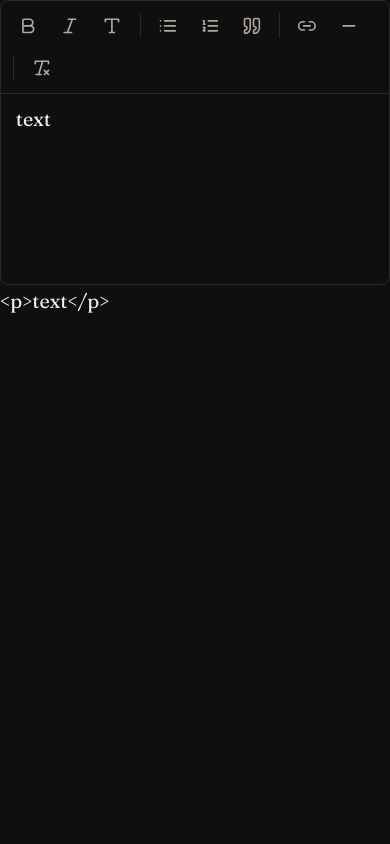
RichTextEditor › gives the link popover a labelled field and says where links open
The image size is (390, 844).
Click the button named "Add or edit link".
click(307, 26)  # box 288,6 -> 327,46
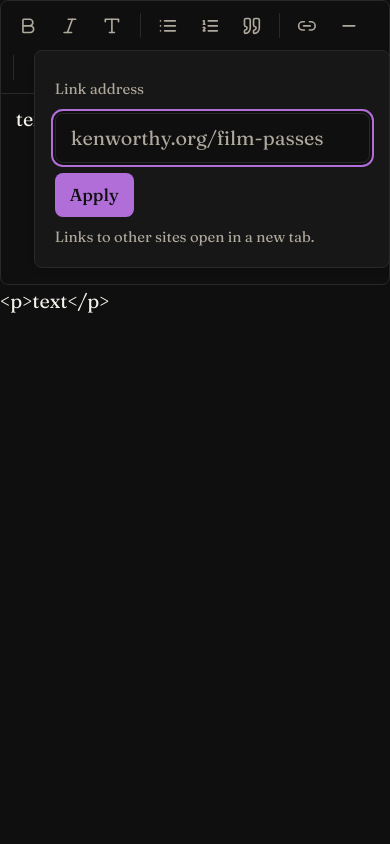
Check: the field labelled "Link address" is shown, box 55,113 -> 370,163
Check: the text "Links to other sites open in a new tab." is shown, box 55,227 -> 314,246
